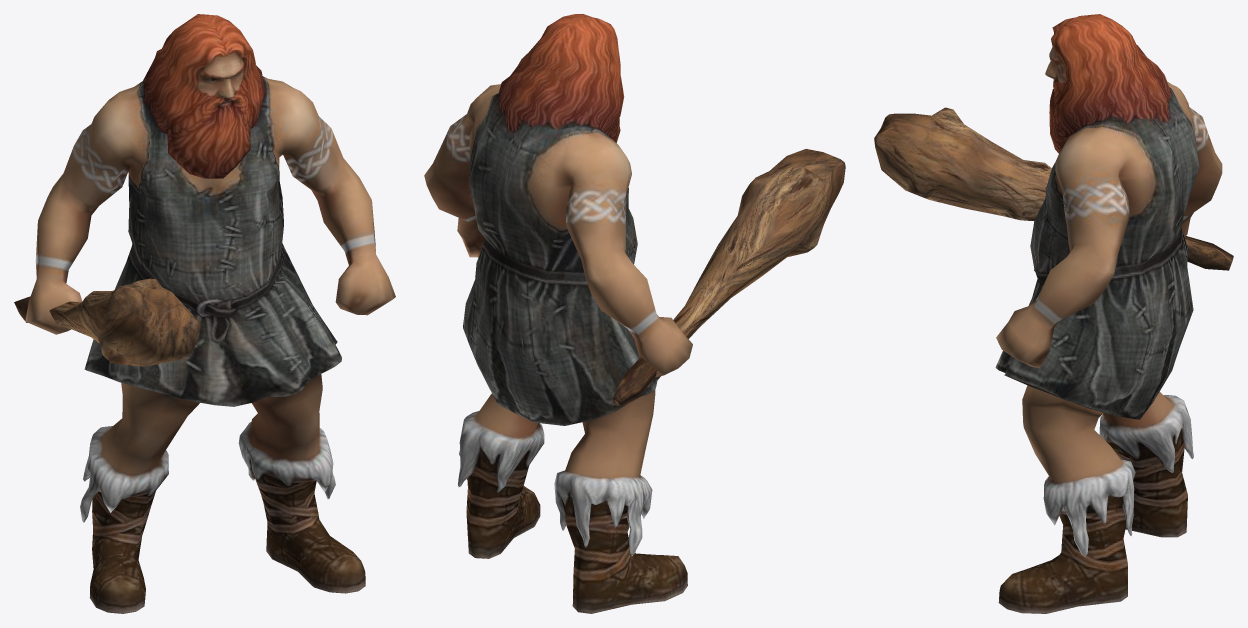
The model's file is 74-mountaingiant.glb.
3 views of the same model, side by side, from view 1: azimuth 30°, elevation 25°; view 2: azimuth 150°, elevation 25°; view 3: azimuth 270°, elevation 25° (orthographic). The views are drawn at different scales.
Size of the model in its own units: 2.43 by 3.96 by 2.39.
Materials: 2 (2 with a texture image).
